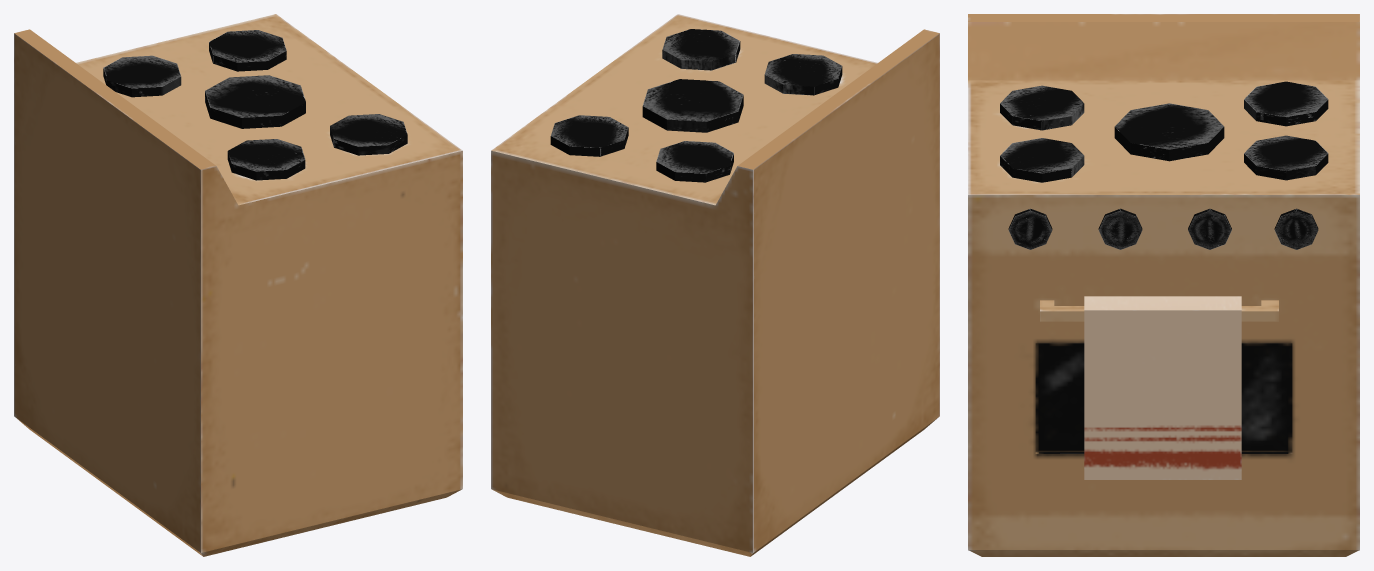
Rendered from estufa_para_texturizar-1.obj.
The picture shows the model from 3 angles, left to right: view 1: azimuth 30°, elevation 25°; view 2: azimuth 150°, elevation 25°; view 3: azimuth 270°, elevation 25°; orthographic projection. The views are drawn at different scales.
Visible parts, largest first — view 1: Cube, Cylinder.005, Cylinder.006, Cylinder.007, Cylinder.009, Cylinder.008; view 2: Cube, Cylinder.005, Cylinder.009, Cylinder.006, Cylinder.007, Cylinder.008; view 3: Cube, Plane, Cylinder.005, Cylinder.006, Cylinder.009, Cylinder.008, Cylinder.007, Cylinder.002, Cylinder.004, Cylinder.001, Cylinder.003.
Part boxes in pixels (bbox=[...]): Cube: bbox=[14, 14, 462, 556]; Cylinder.005: bbox=[205, 75, 305, 128]; Cylinder.006: bbox=[227, 139, 305, 180]; Cylinder.007: bbox=[330, 114, 407, 155]; Cylinder.009: bbox=[209, 30, 286, 71]; Cylinder.008: bbox=[103, 55, 181, 97]; Cube: bbox=[491, 14, 939, 556]; Cylinder.005: bbox=[642, 79, 743, 132]; Cylinder.009: bbox=[550, 115, 628, 156]; Cylinder.006: bbox=[764, 54, 842, 95]; Cylinder.007: bbox=[662, 29, 740, 70]; Cylinder.008: bbox=[656, 141, 733, 182]; Cube: bbox=[968, 14, 1359, 556]; Plane: bbox=[1084, 296, 1241, 479]; Cylinder.005: bbox=[1114, 103, 1224, 161]; Cylinder.006: bbox=[1000, 85, 1084, 130]; Cylinder.009: bbox=[1244, 135, 1328, 180]; Cylinder.008: bbox=[1244, 81, 1328, 126]; Cylinder.007: bbox=[1000, 138, 1084, 182]; Cylinder.002: bbox=[1098, 208, 1142, 249]; Cylinder.004: bbox=[1274, 208, 1318, 249]; Cylinder.001: bbox=[1008, 208, 1052, 249]; Cylinder.003: bbox=[1188, 208, 1231, 249].
Size of the model in its own units: 1.81 by 2.33 by 2.
Materials: 1 (1 with a texture image).
